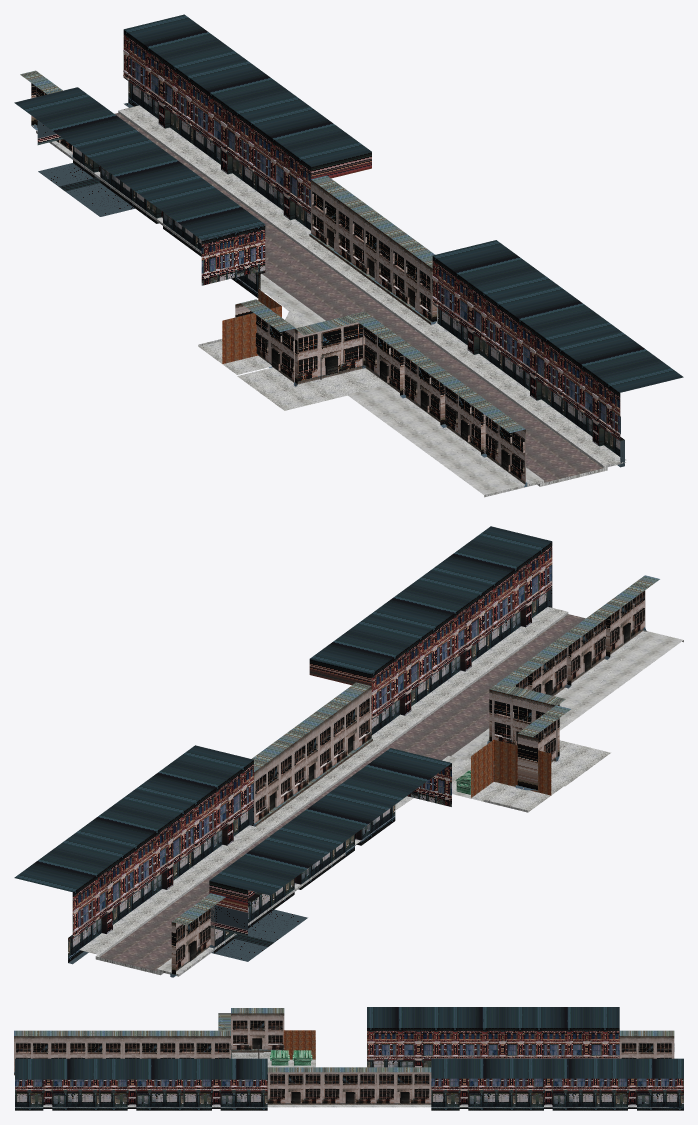
The model's file is fishies_minimart_outdoors1.0.glb.
3 renders of one model, top to bottom at view 1: azimuth 30°, elevation 25°; view 2: azimuth 150°, elevation 25°; view 3: azimuth 270°, elevation 25°, orthographic. The views are drawn at different scales.
Visible parts, largest first — view 1: sidewalk.002, sidewalk.001, sidewalk.003, sidewalk, road, sidefence, Plane.006, parksing, Plane.002, Plane.001, Plane, Plane.003 (+6 smaller); view 2: sidewalk.001, sidewalk.002, sidewalk.003, sidewalk, road, sidefence, Plane.001, Plane, Plane.002, Plane.006, Plane.009, Plane.011 (+6 smaller); view 3: sidewalk.003, sidewalk.001, sidewalk.002, Plane.008, Plane, Plane.002, Plane.001, Plane.011, Plane.003, Plane.004, Plane.005, Plane.007 (+7 smaller).
Part boxes in pixels (x1,y1,x2,y2): sidewalk.002: (123,14,371,230); sidewalk.001: (432,240,683,467); sidewalk.003: (14,87,265,297); sidewalk: (118,105,626,484); road: (114,113,603,482); sidefence: (36,130,625,497); Plane.006: (294,315,368,386); parksing: (237,367,388,410); Plane.002: (309,175,366,265); Plane.001: (350,205,407,294); Plane: (390,235,436,324); Plane.003: (470,399,527,487); sidewalk.001: (309,526,552,735); sidewalk.002: (14,745,253,964); sidewalk.003: (209,748,451,961); sidewalk: (79,607,568,972); road: (100,614,585,971); sidefence: (95,630,683,976); Plane.001: (278,711,333,797); Plane: (317,682,372,768); Plane.002: (252,739,294,826); Plane.006: (488,682,565,761); Plane.009: (471,739,551,797); Plane.011: (170,893,225,977); sidewalk.003: (367,1007,619,1067); sidewalk.001: (15,1058,267,1110); sidewalk.002: (431,1058,683,1110); Plane.008: (231,1008,284,1052); Plane: (267,1067,322,1104); Plane.002: (376,1067,431,1104); Plane.001: (322,1067,376,1104); Plane.011: (619,1030,674,1058); Plane.003: (14,1030,68,1075); Plane.004: (68,1030,122,1058); Plane.005: (123,1030,177,1058); Plane.007: (177,1030,230,1058).
Size of the model in its own units: 47.62 by 13.07 by 157.
Materials: 26 (26 with a texture image).
